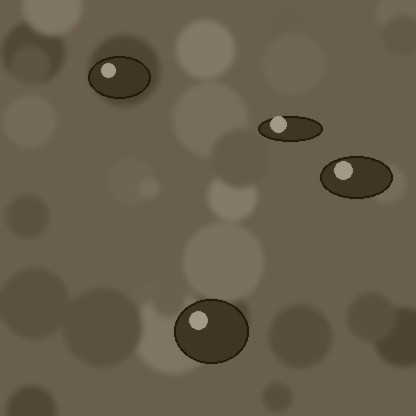gota: (174, 301, 248, 369), (320, 158, 392, 202), (88, 58, 150, 102), (258, 117, 322, 143)
